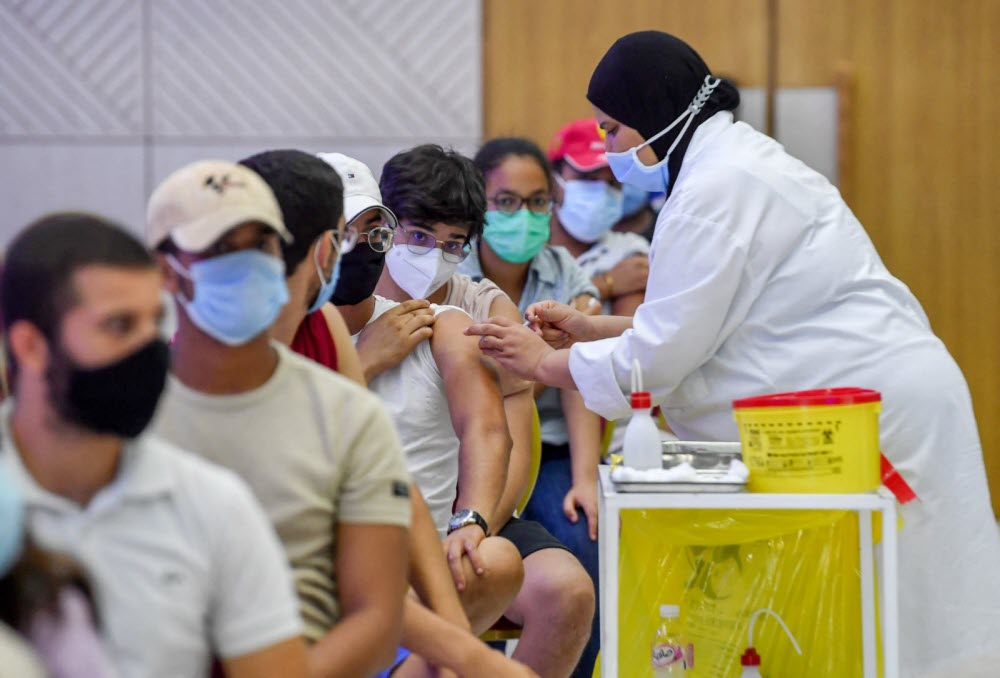with_mask: (29, 243, 174, 442), (170, 215, 294, 348), (479, 131, 557, 275), (395, 170, 472, 314), (594, 88, 669, 221), (332, 177, 392, 312)
